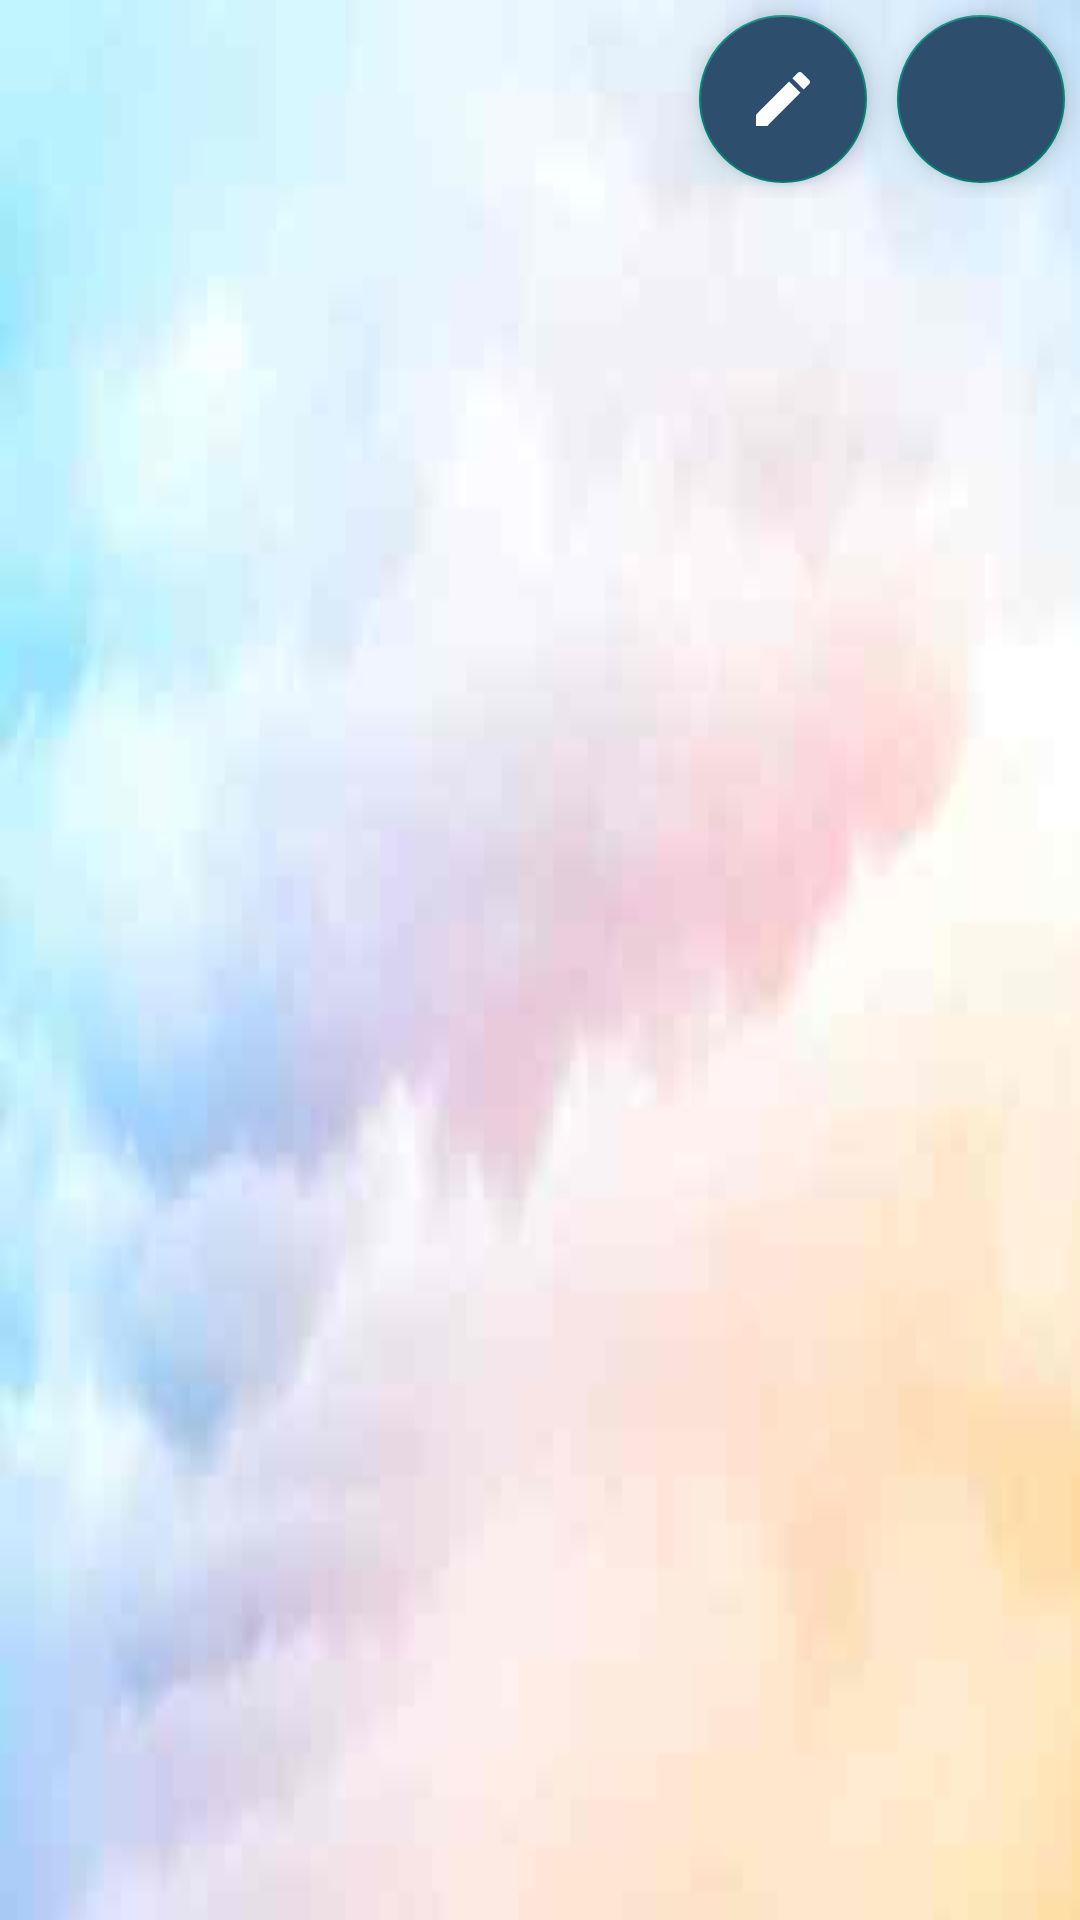

Named icons in this screenshot (1080w x 1920h) and their centers, point (x, y):
edit: point (783, 99)
